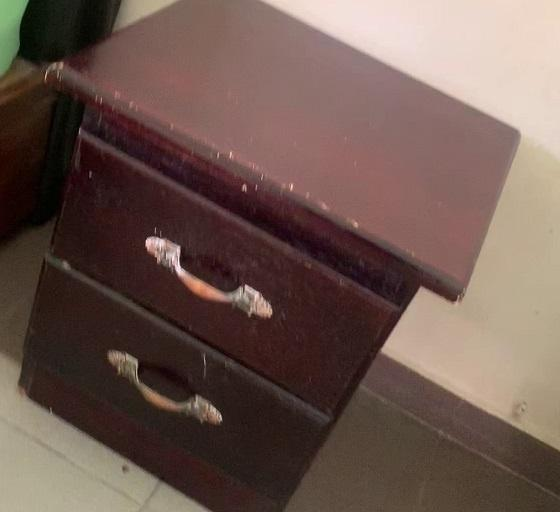cabinet_door: (26, 206, 430, 332), (28, 339, 312, 474)
handle: (138, 234, 275, 320), (102, 349, 228, 428)
